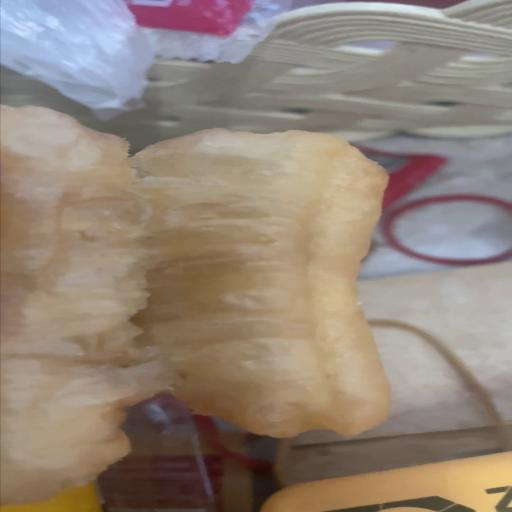street_golden_defect: (0, 127, 390, 487)
street_golden_good: (260, 450, 511, 512)
